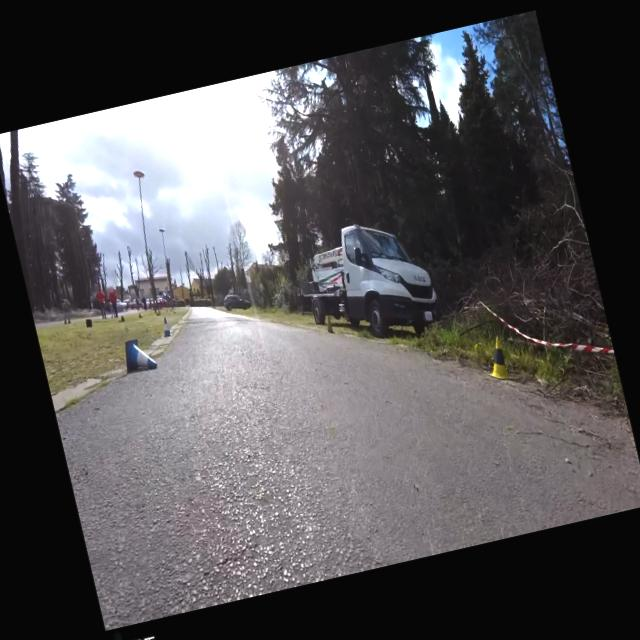blue_cone: (120, 336, 157, 372), (158, 316, 172, 338)
unknown_cone: (322, 314, 334, 334), (84, 318, 92, 328), (117, 314, 125, 322), (66, 316, 70, 324), (62, 317, 66, 325)
yellow_cone: (480, 332, 512, 383)
